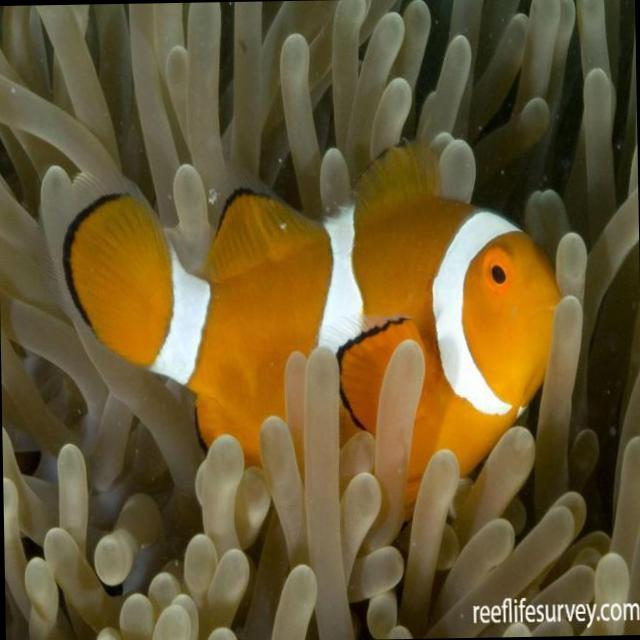ClownFish: (66, 139, 554, 520)
